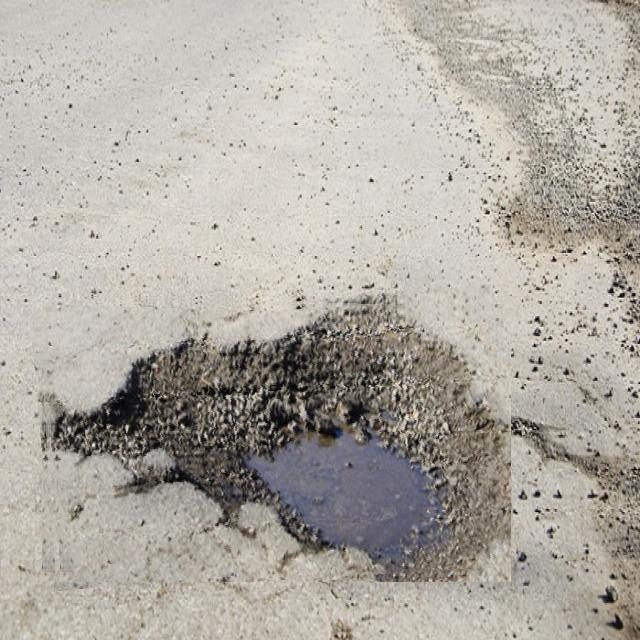Pothole: (37, 294, 511, 582)
